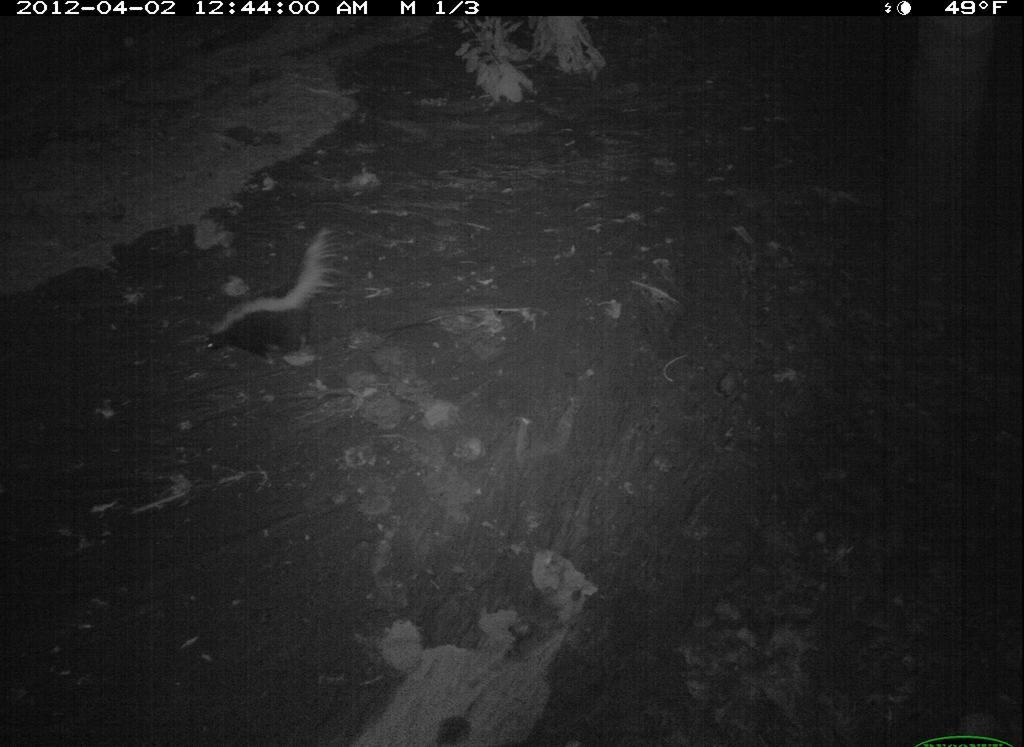skunk: (196, 210, 354, 381)
